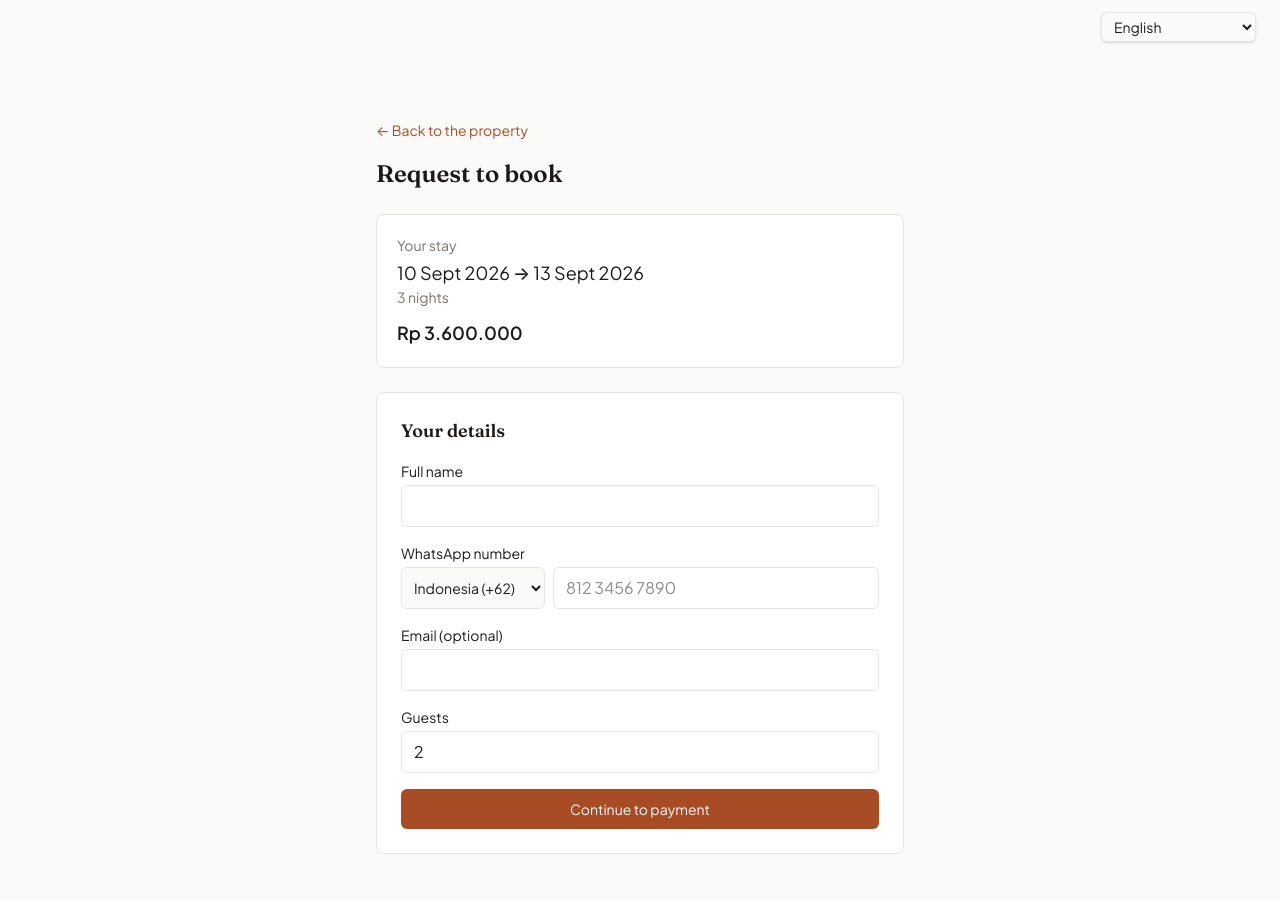
Test case: checkout page › shows the just-taken copy when the dates were booked before submit (409)
The image size is (1280, 900).
Expected: the text "Rp 3.600.000" is shown, [397, 321, 523, 344]
Type "Made A." into the field labelled "Full name" at (640, 506), box [401, 485, 879, 527]
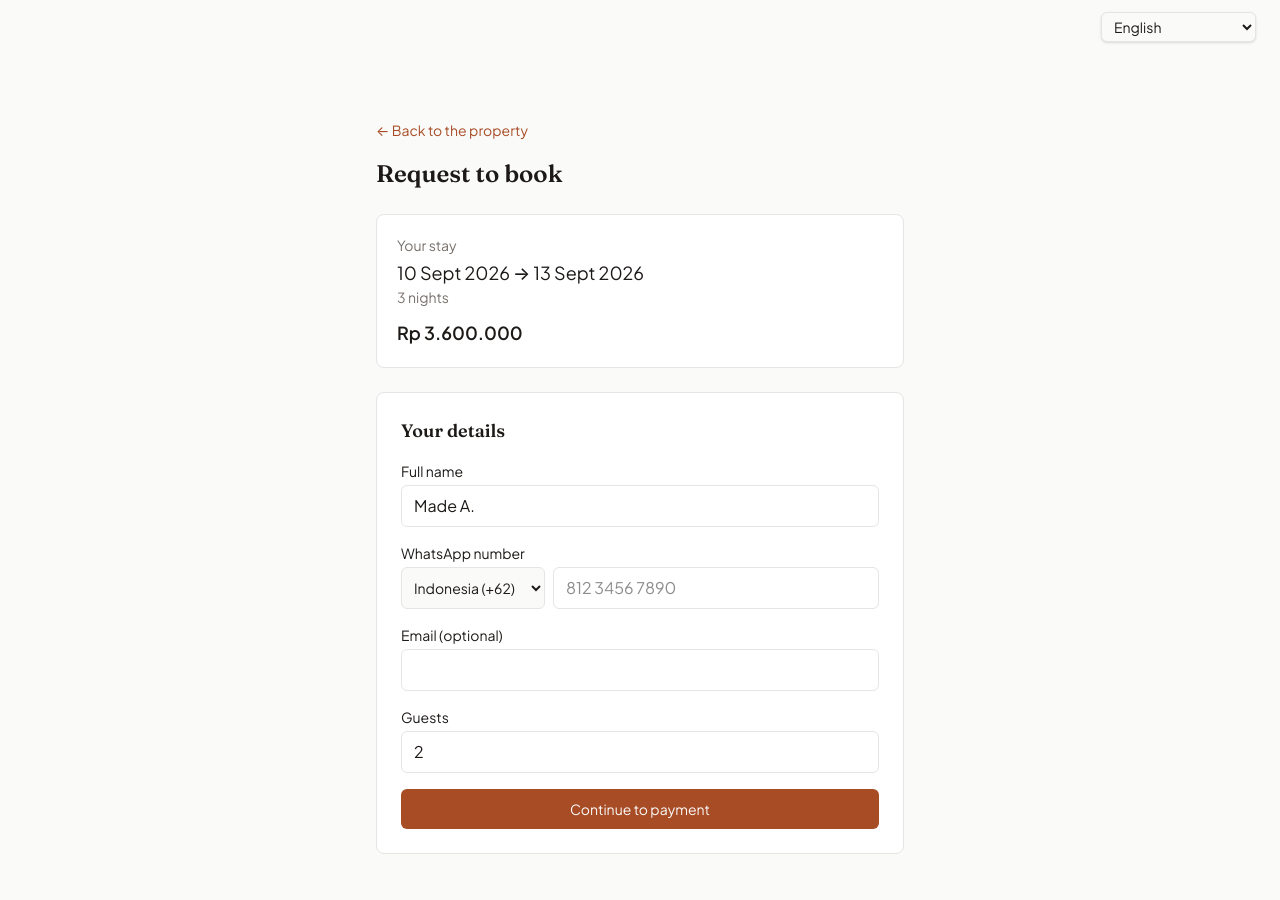
Type "0812 3456 7890" into the field labelled "WhatsApp number" at (716, 588), box [553, 567, 879, 609]
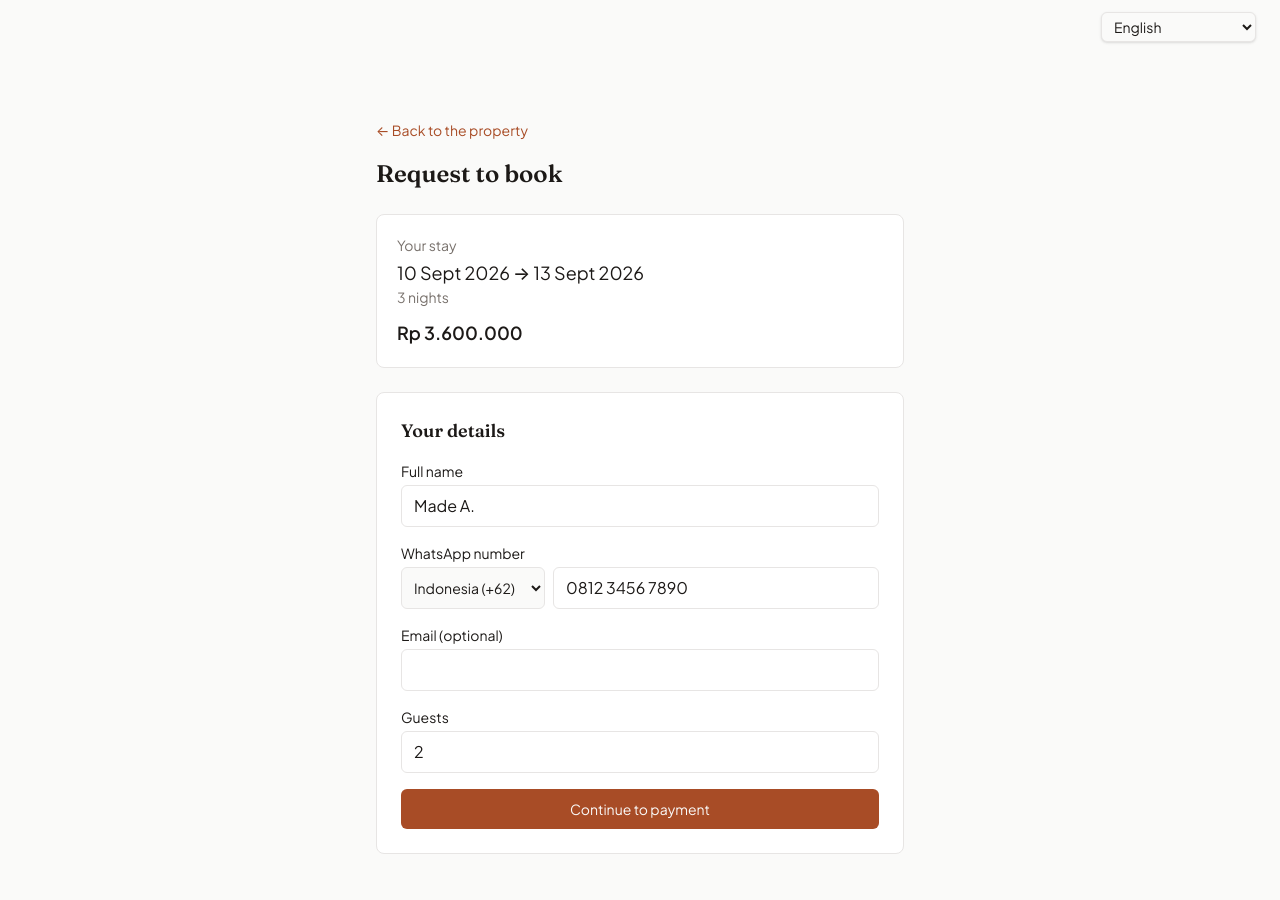
Click the button "Continue to payment" at (640, 809), box [401, 789, 879, 829]
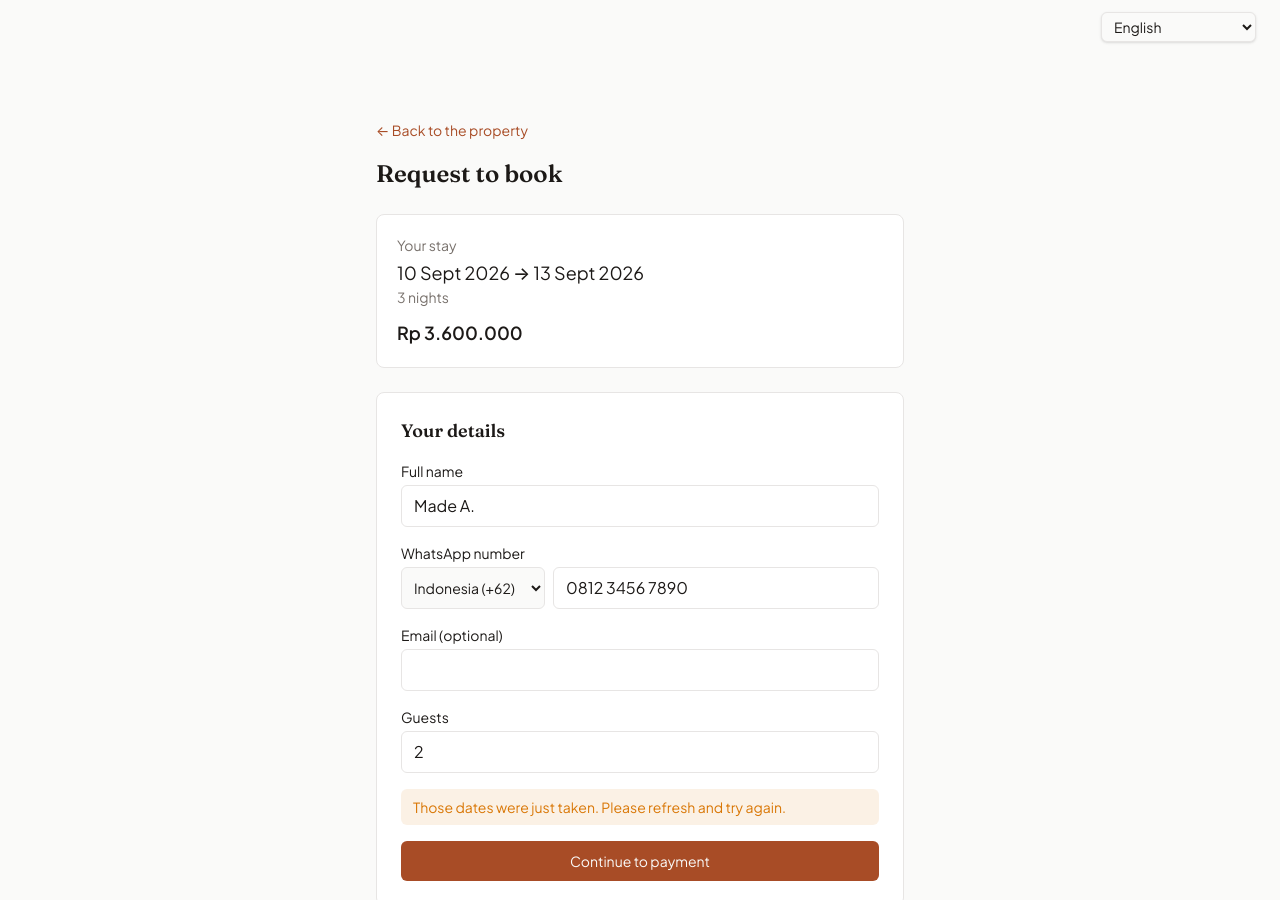
Expected: the text "Those dates were just taken. Please refresh and try again." is shown, [401, 789, 879, 825]
